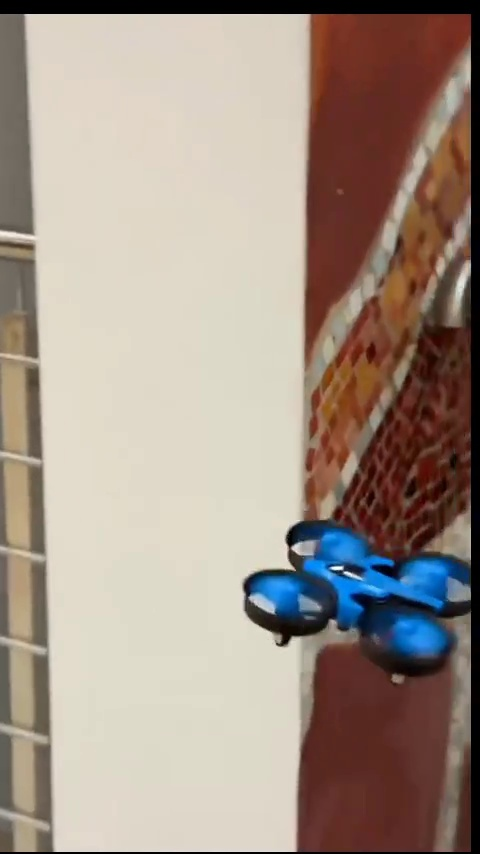drone: (247, 521, 476, 684)
